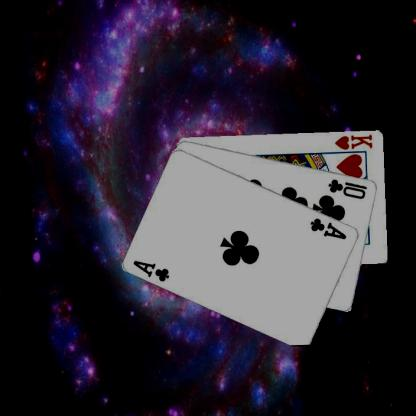10C: (326, 176, 368, 200)
AC: (308, 215, 348, 241), (131, 258, 171, 282)
KH: (332, 132, 374, 150)
